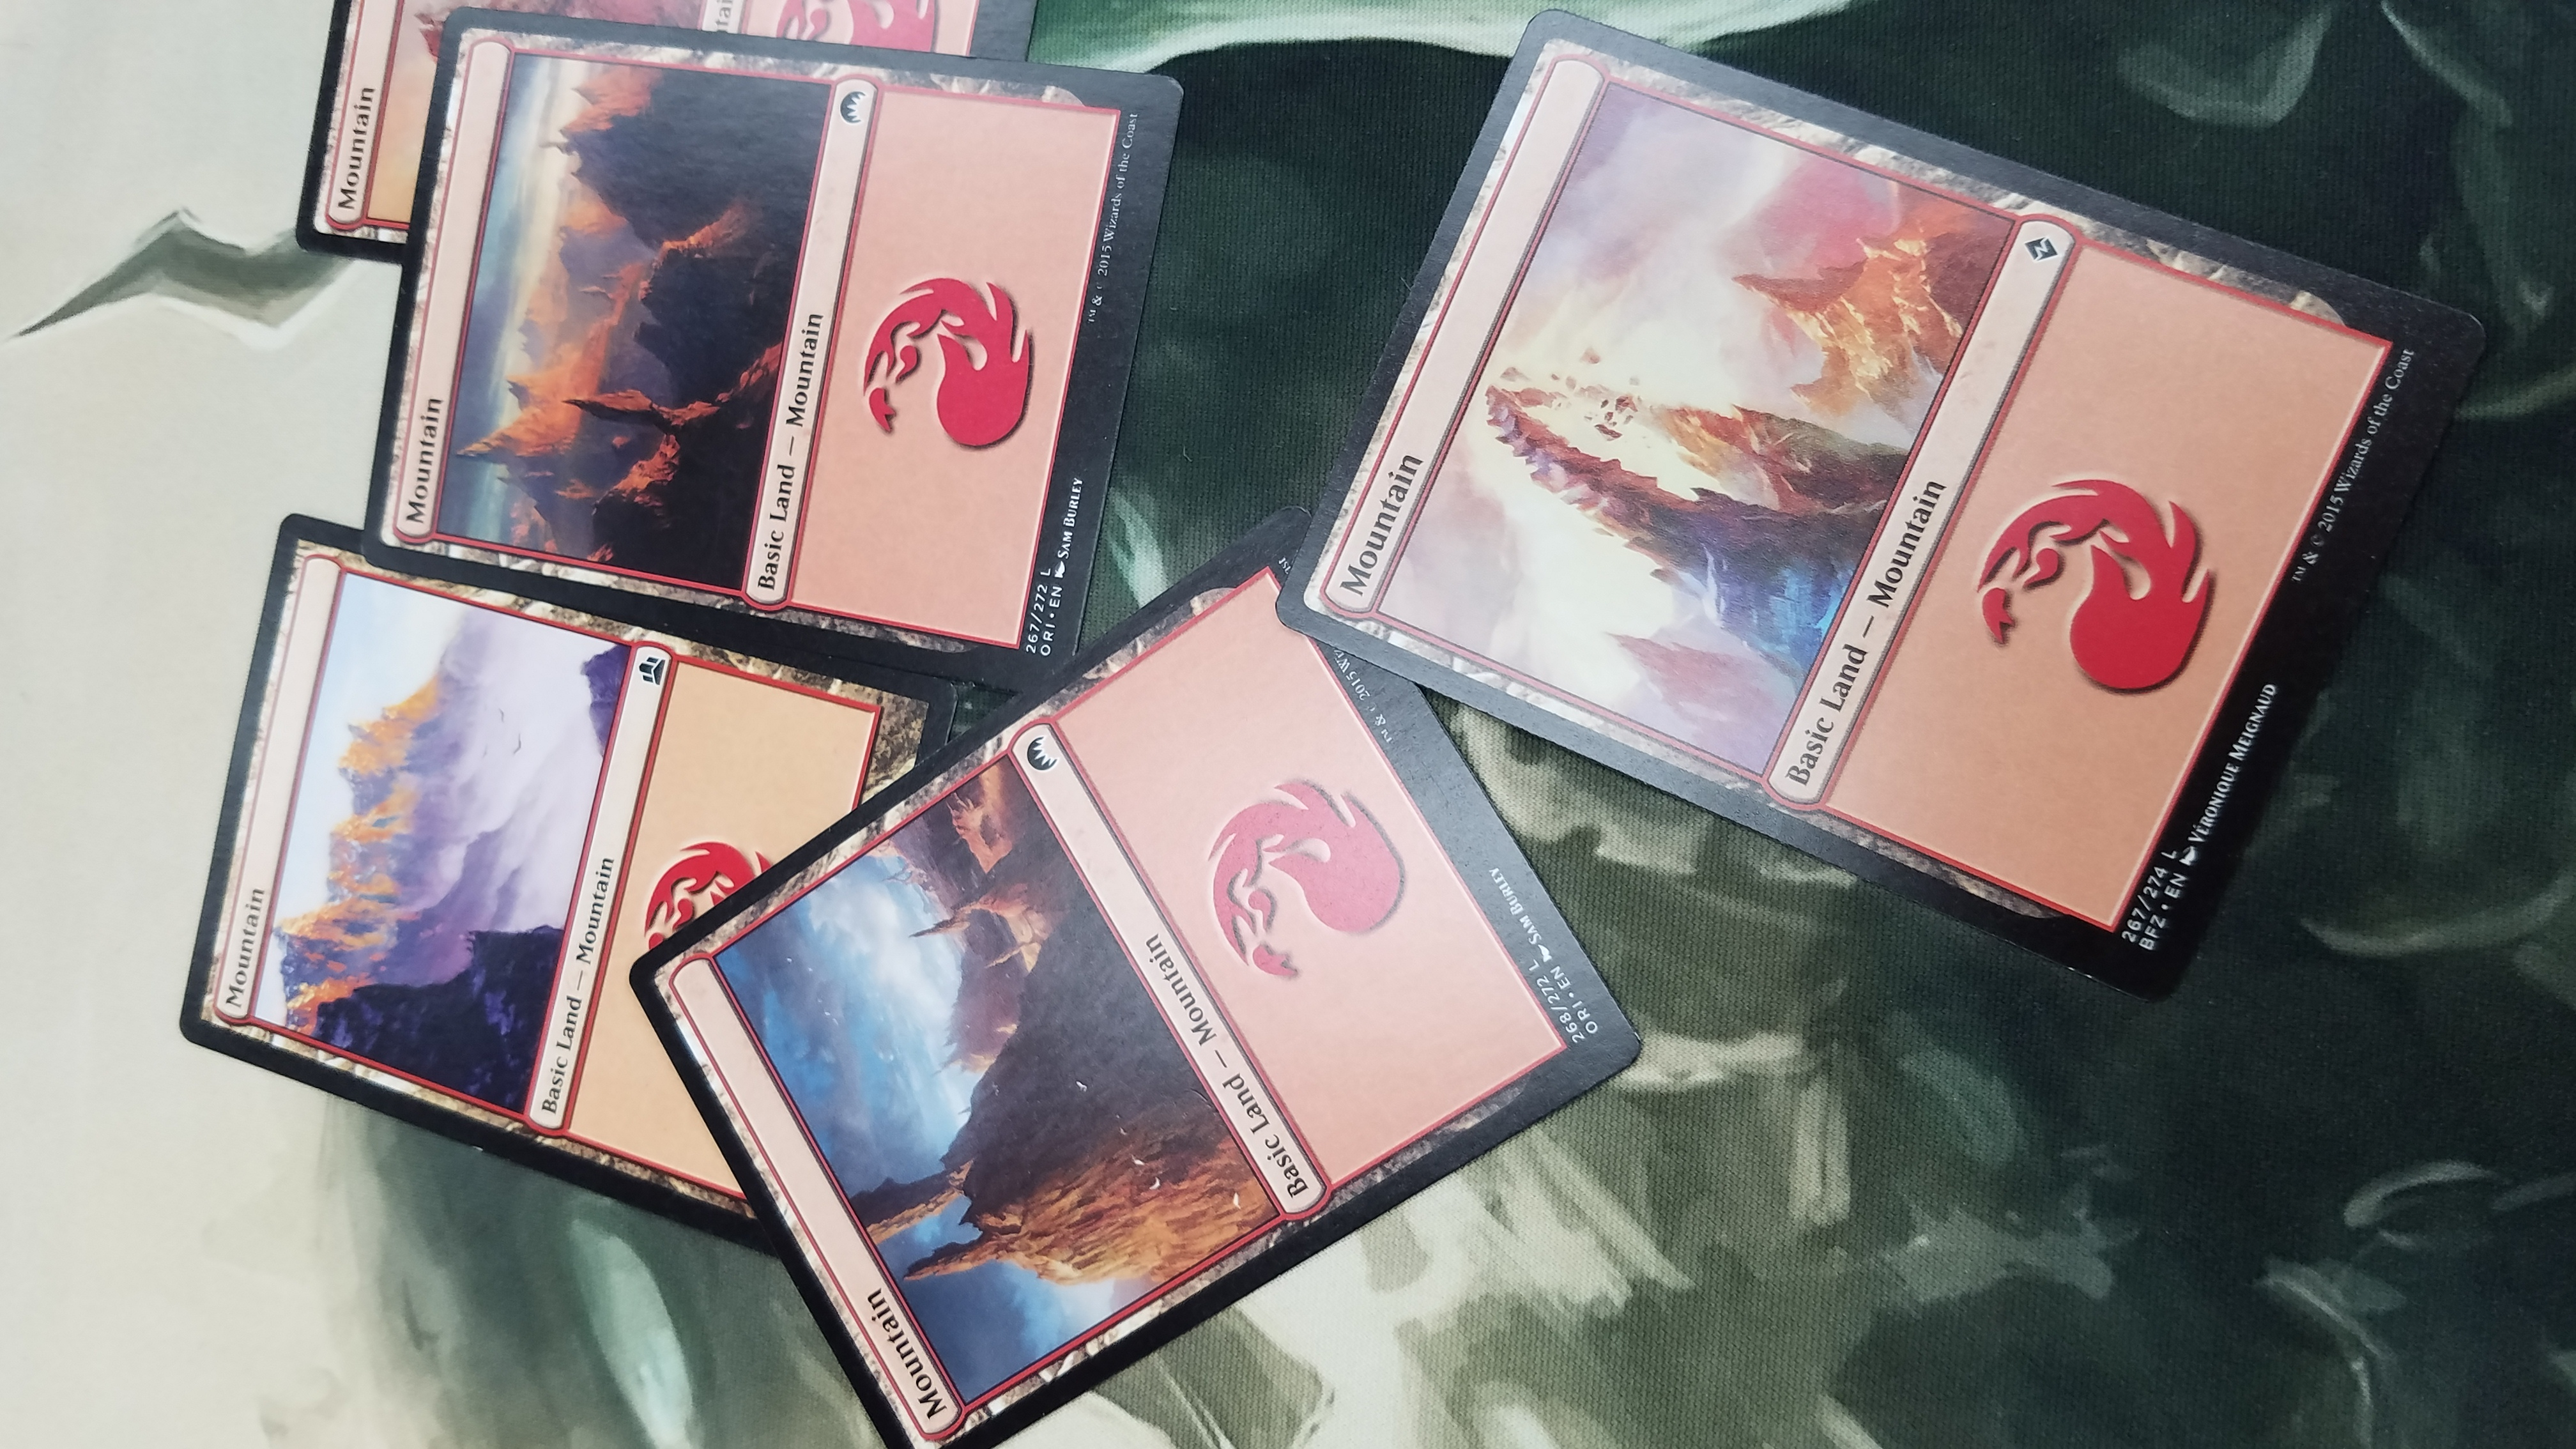Card: (1286, 14, 2495, 1007), (623, 502, 1649, 1449), (179, 502, 961, 1269), (370, 11, 1194, 692), (295, 0, 1037, 283)
